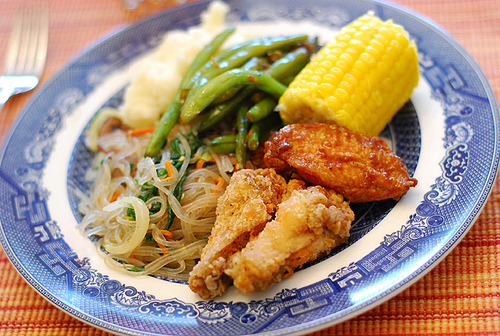corn: (273, 14, 419, 136)
